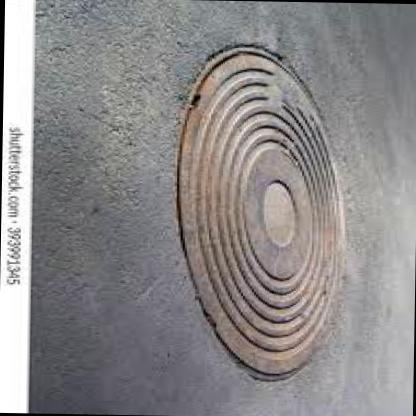manholes: (155, 31, 368, 398)
